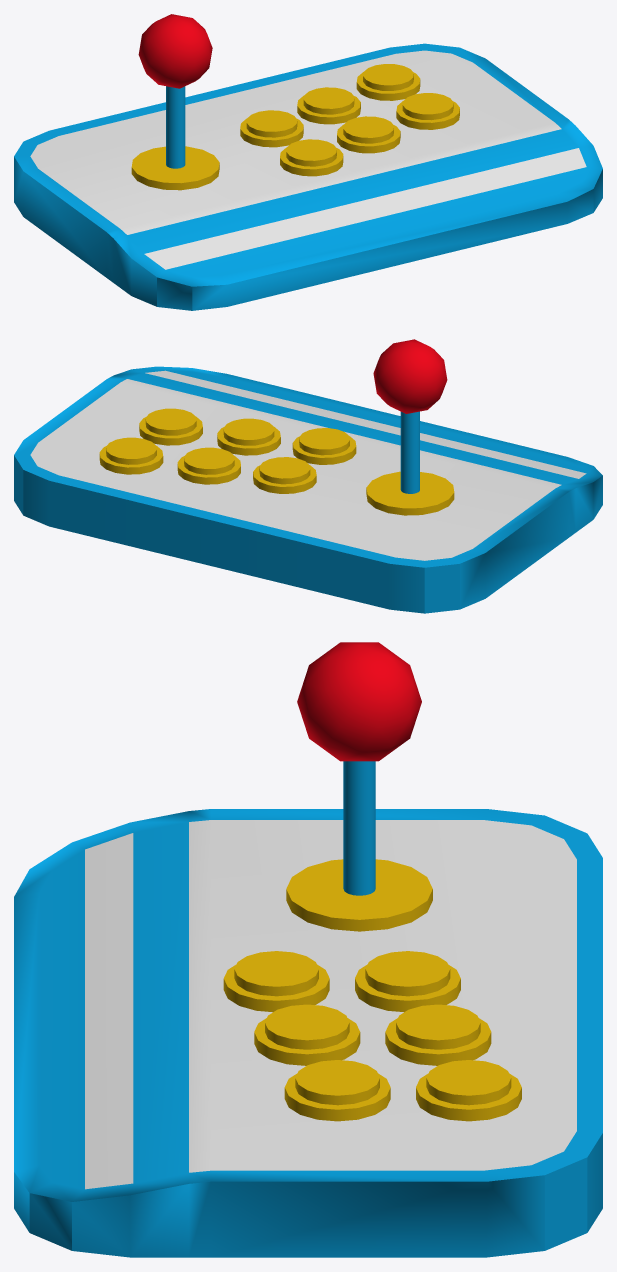
File: controller.glb
The picture shows the model from 3 angles, top to bottom: view 1: azimuth 30°, elevation 25°; view 2: azimuth 150°, elevation 25°; view 3: azimuth 270°, elevation 25°; orthographic projection. The views are drawn at different scales.
Parts seen in each view (by area): view 1: Controller; view 2: Controller; view 3: Controller.
Boxes of the visible parts, x1=… form: Controller: x1=14, y1=14, x2=602, y2=310; Controller: x1=14, y1=339, x2=602, y2=613; Controller: x1=14, y1=642, x2=602, y2=1257.
Bounding box in the file's own units: 2 × 0.8286 × 1.34.
